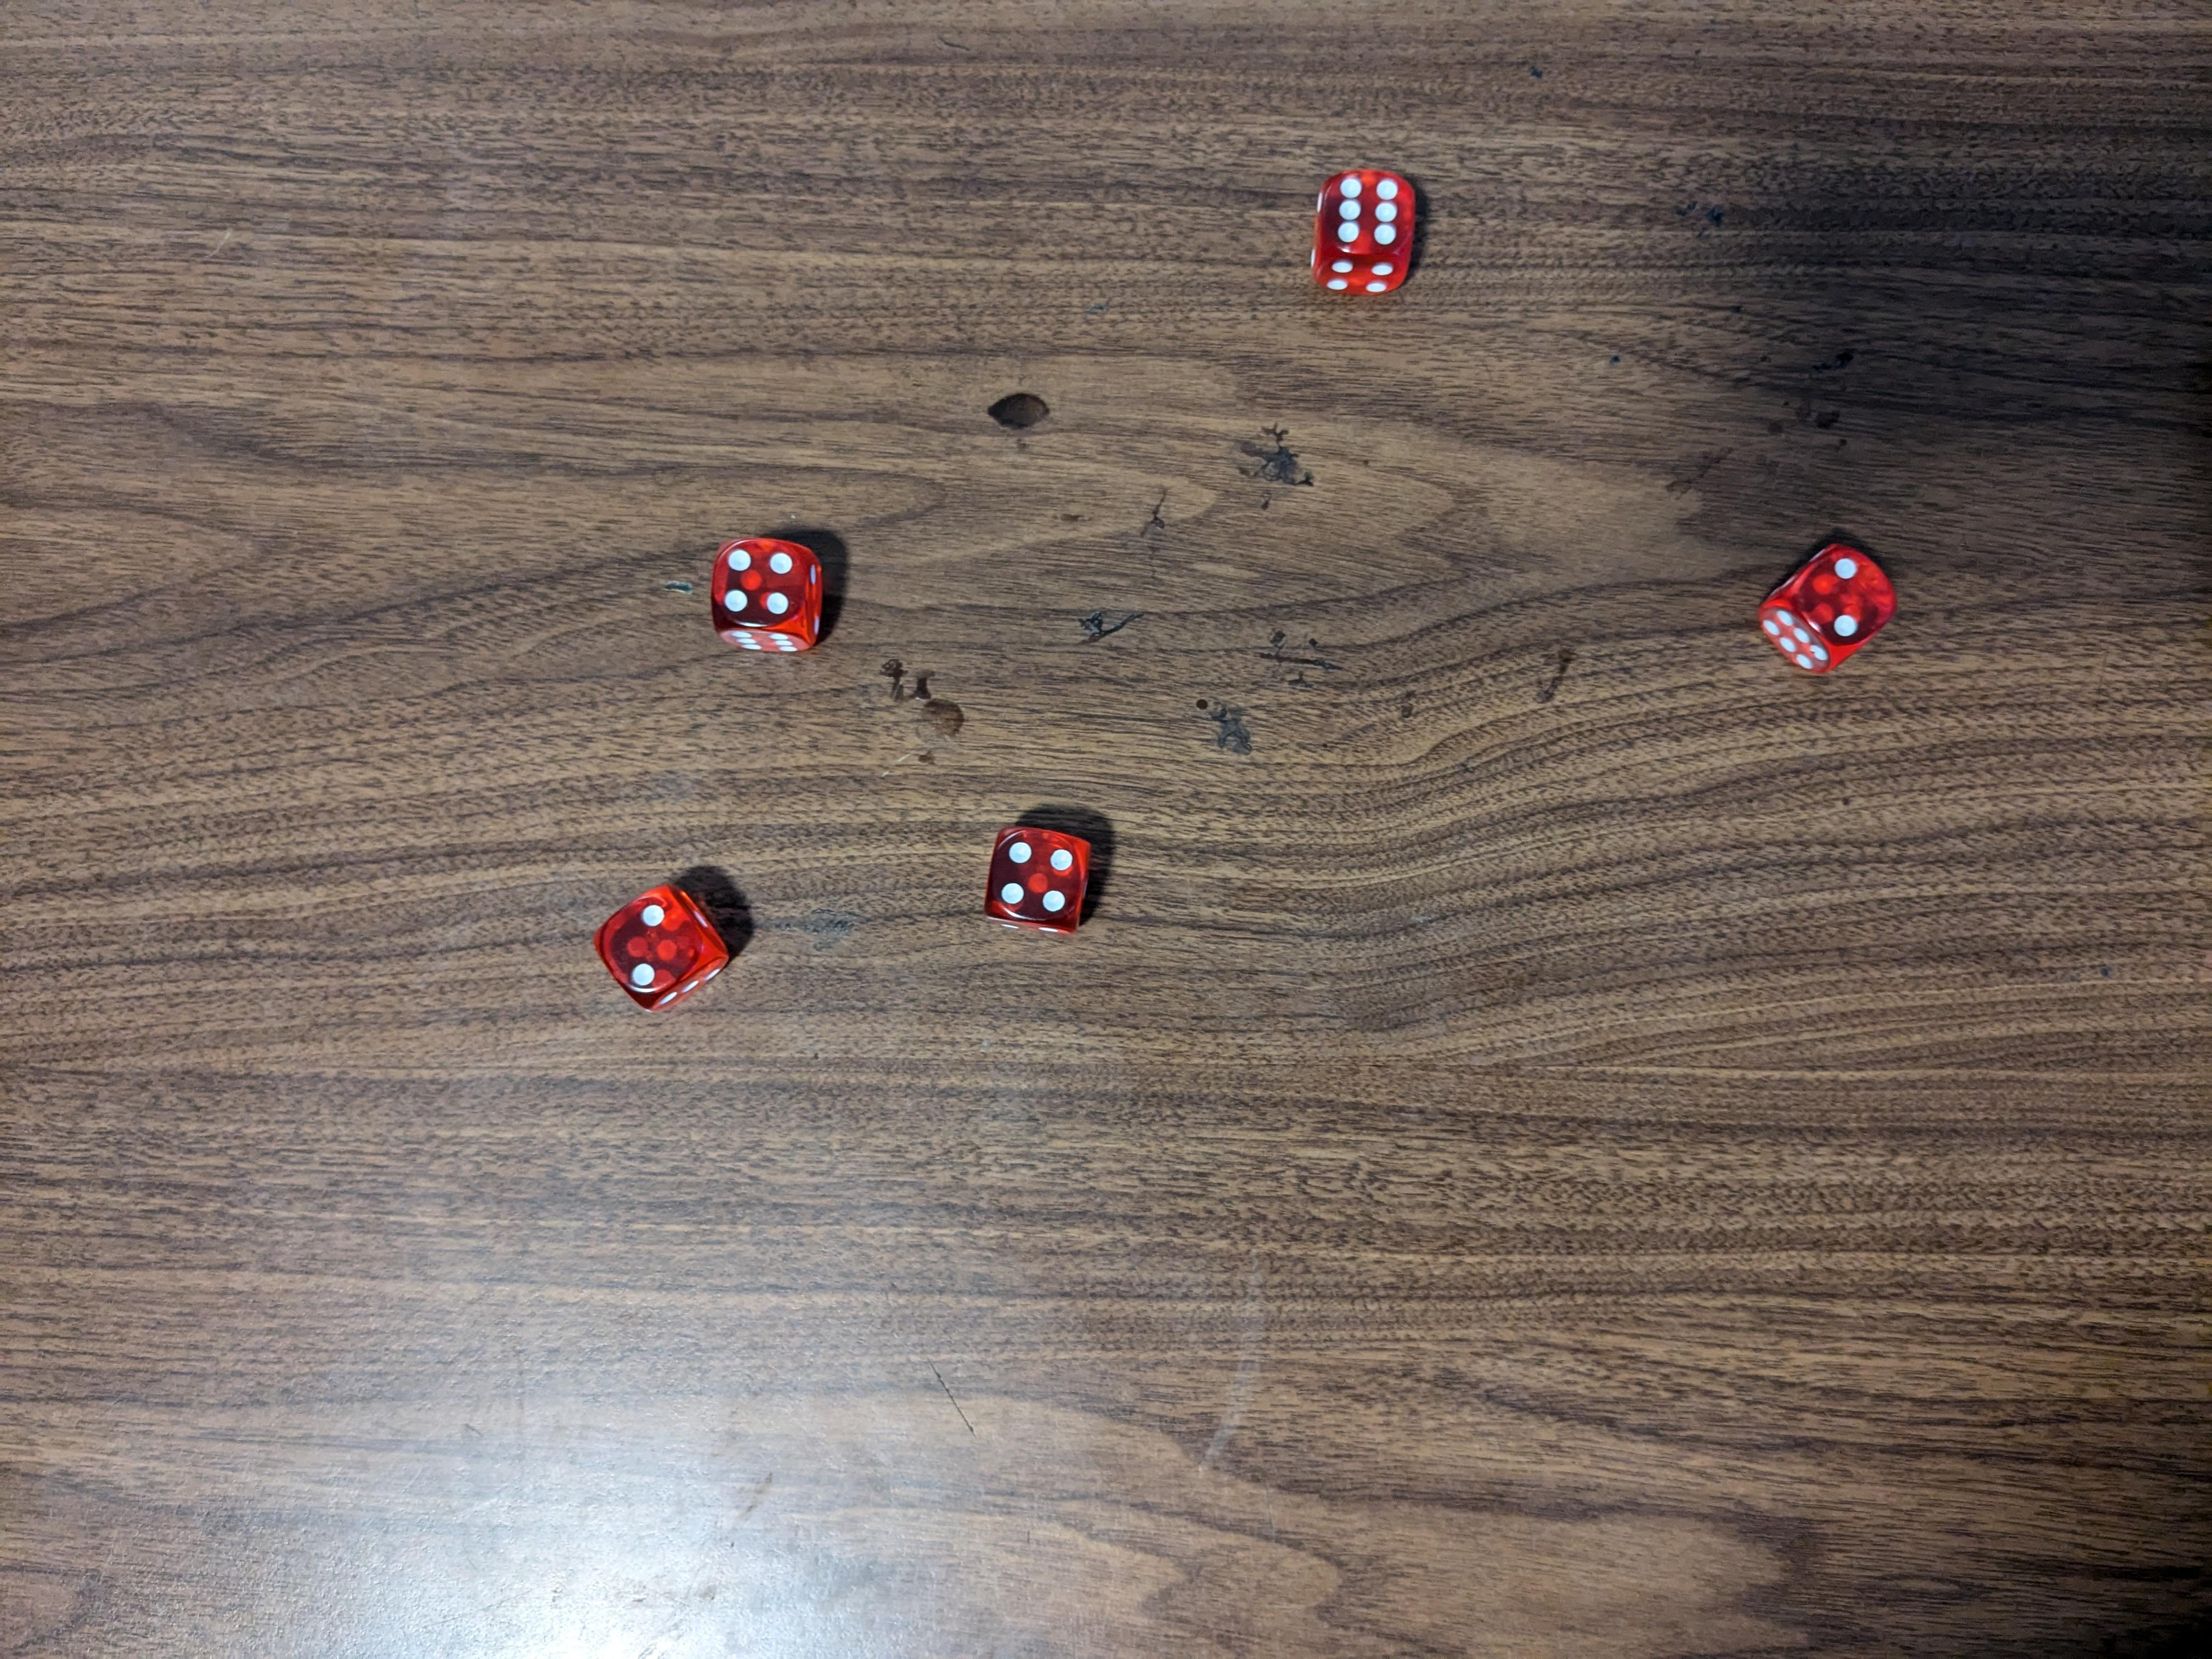four: (712, 533, 831, 657), (982, 821, 1096, 938)
six: (1308, 162, 1421, 301)
two: (1750, 540, 1897, 674), (592, 882, 738, 1012)
